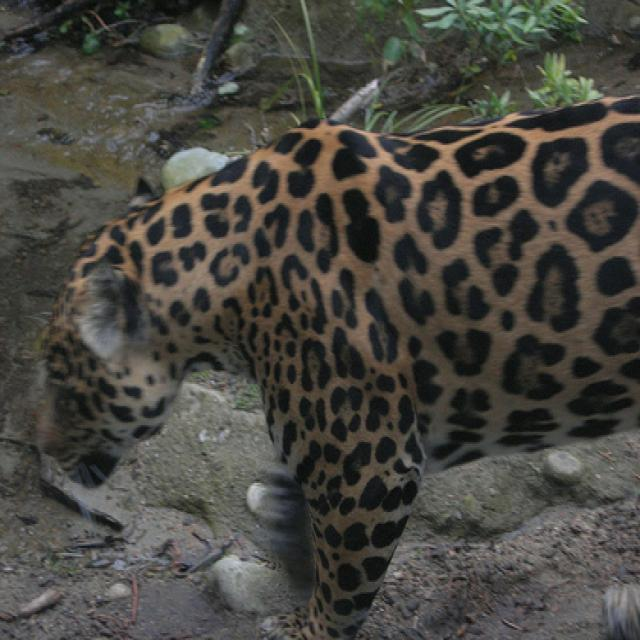Leopard: (31, 87, 636, 635)
